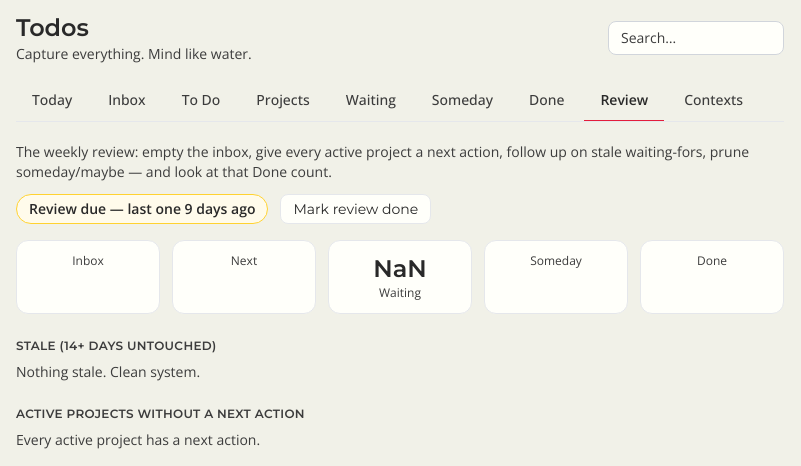
Scenario: the review-due hint › a failed save says so and keeps the hint
Click the button "Mark review done": (356, 209) 280,194 -> 431,224
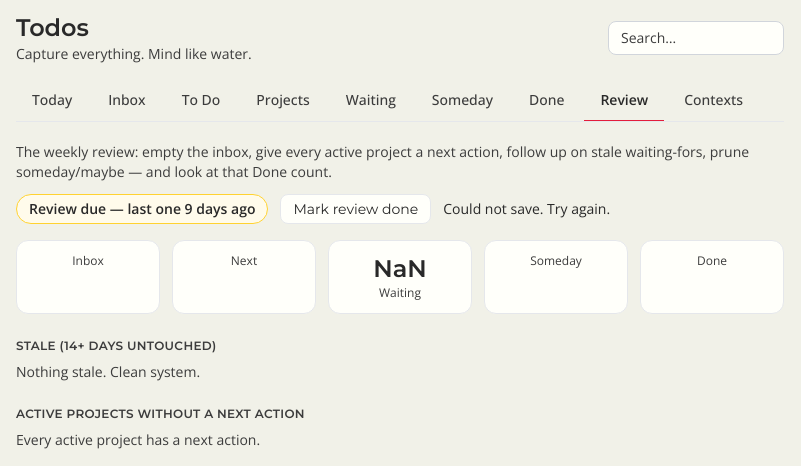
Expected: the text "Review due" is shown, 29,199 -> 106,218
Now the message "Could not save. Try again." is shown, box 443,199 -> 610,219
